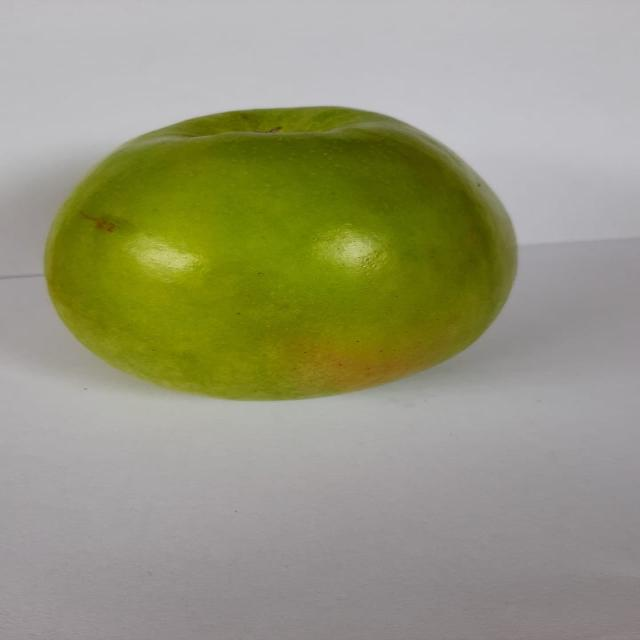50-_ripeness: (20, 102, 530, 408)
